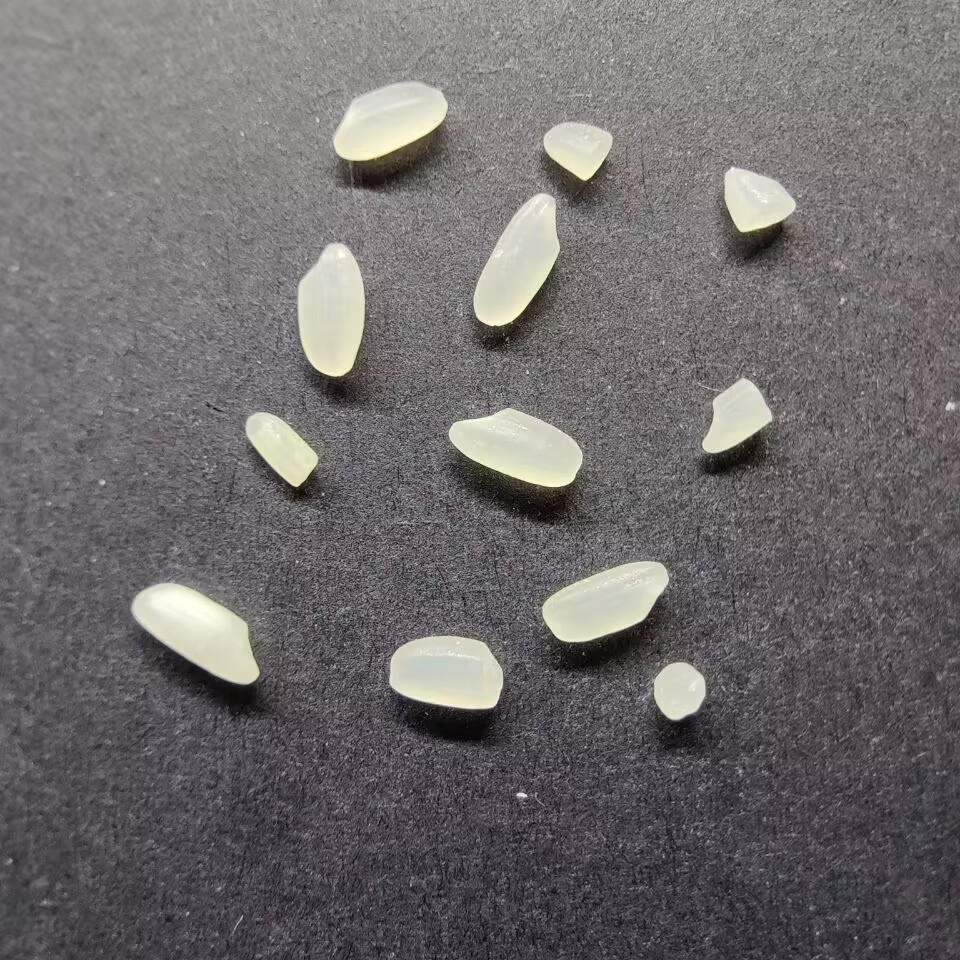broken: (698, 376, 776, 454), (243, 410, 320, 489), (721, 164, 800, 234), (540, 118, 614, 184), (651, 659, 708, 723)
rice: (130, 581, 259, 688), (471, 191, 562, 328), (445, 406, 585, 488), (539, 559, 670, 643), (294, 240, 367, 378), (330, 81, 449, 160), (388, 633, 504, 711)
